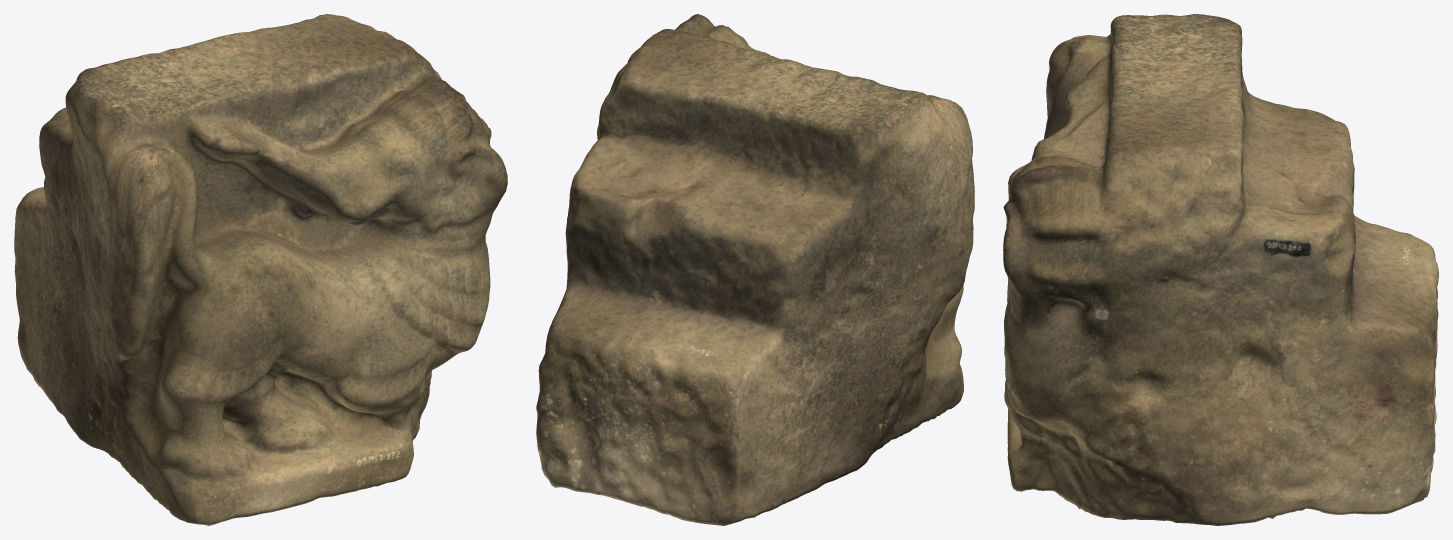
The model's file is 37_MysonSanctuaryD2_Sutuvoi_final.glb.
The picture shows the model from 3 angles, left to right: view 1: azimuth 30°, elevation 25°; view 2: azimuth 150°, elevation 25°; view 3: azimuth 270°, elevation 25°; orthographic projection. The views are drawn at different scales.
Size of the model in its own units: 0.4084 by 0.4135 by 0.4359.
Materials: 1 (1 with a texture image).
